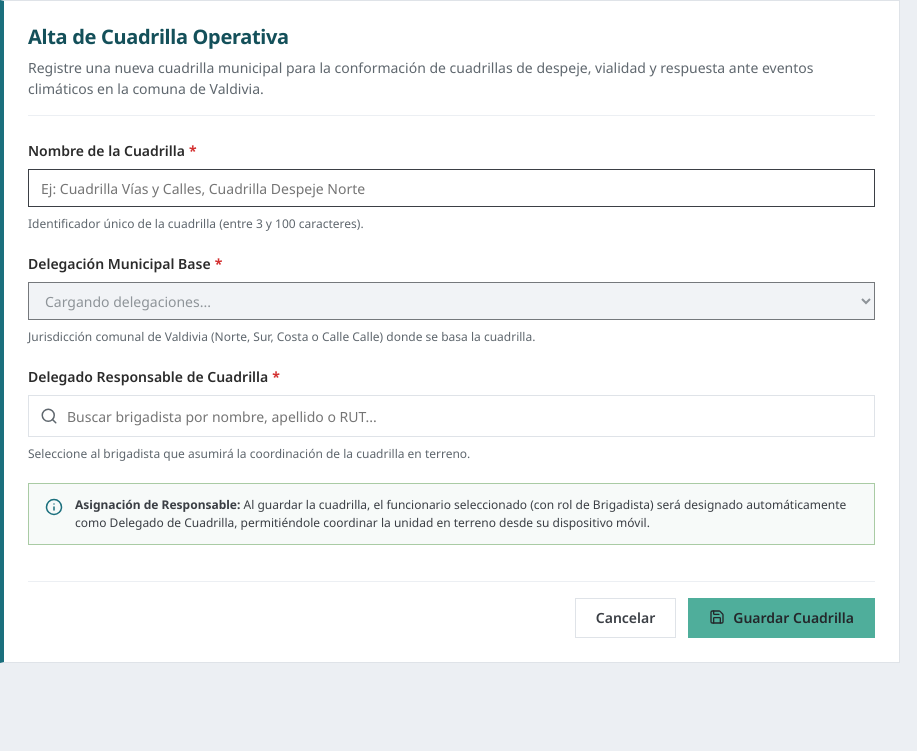
Scenario: CuadrillaForm (H79) › debe reflejar error de colisión de nombre (409 Conflict) directamente en el input
This screenshot has width=917, height=751.
// Llenar campos
Type "Cuadrilla Existente" into the field labelled "Nombre de la Cuadrilla *". click: [452, 188]
box: [28,169,875,207]
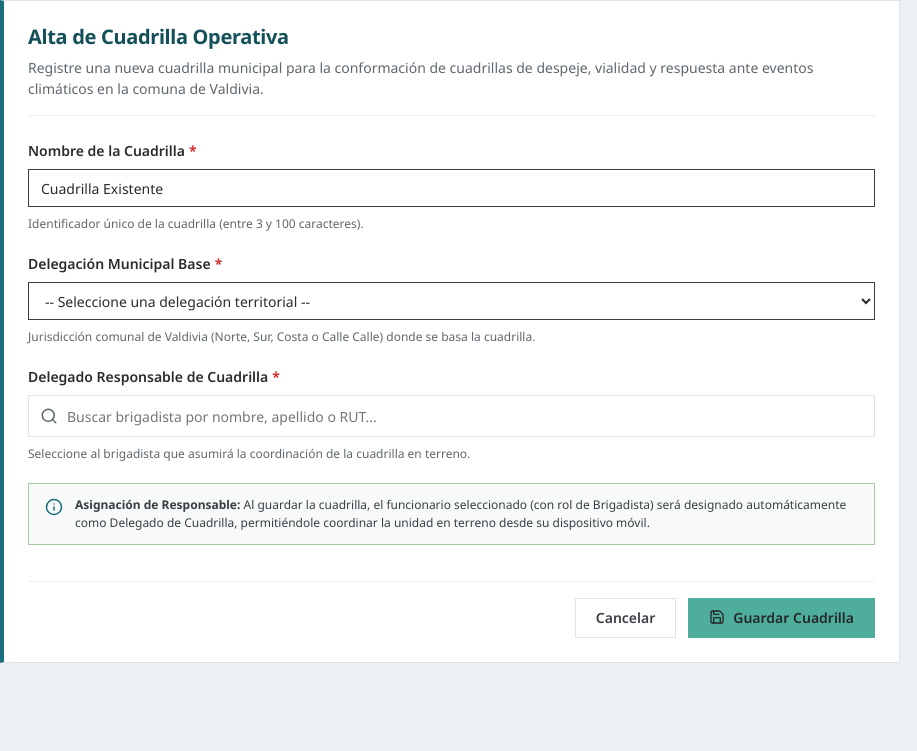
Select "Calle Calle" in the dropdown labelled "Delegación Municipal Base *". click: [452, 301]
box: [28,282,875,320]
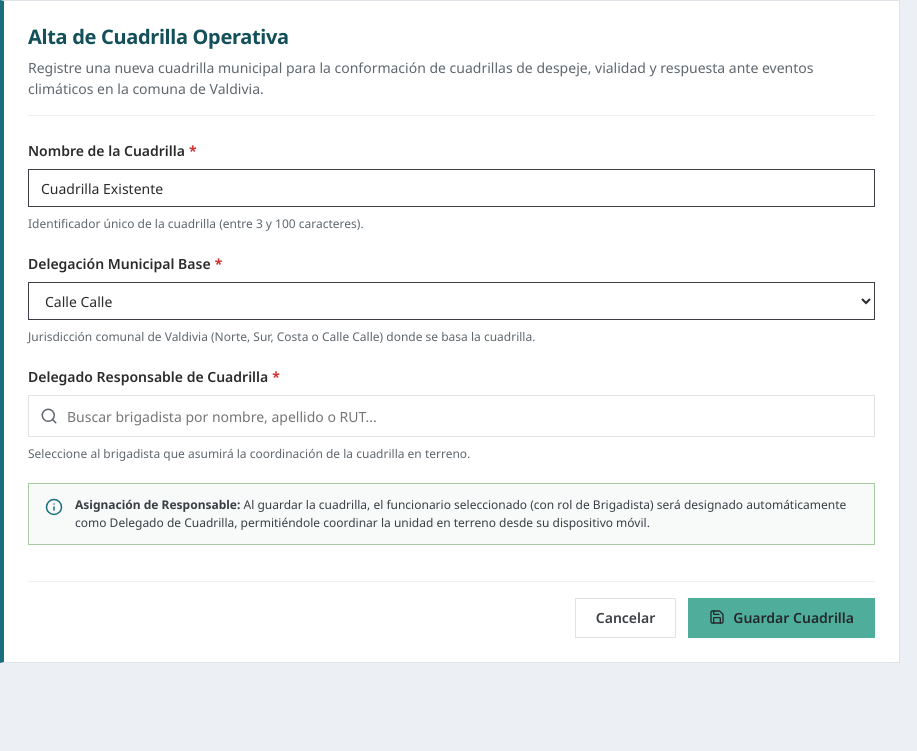
Type "Carlos" into the field with placeholder "Buscar brigadista por nombre, apellido o RUT...". click: [452, 416]
box: [28,395,875,437]
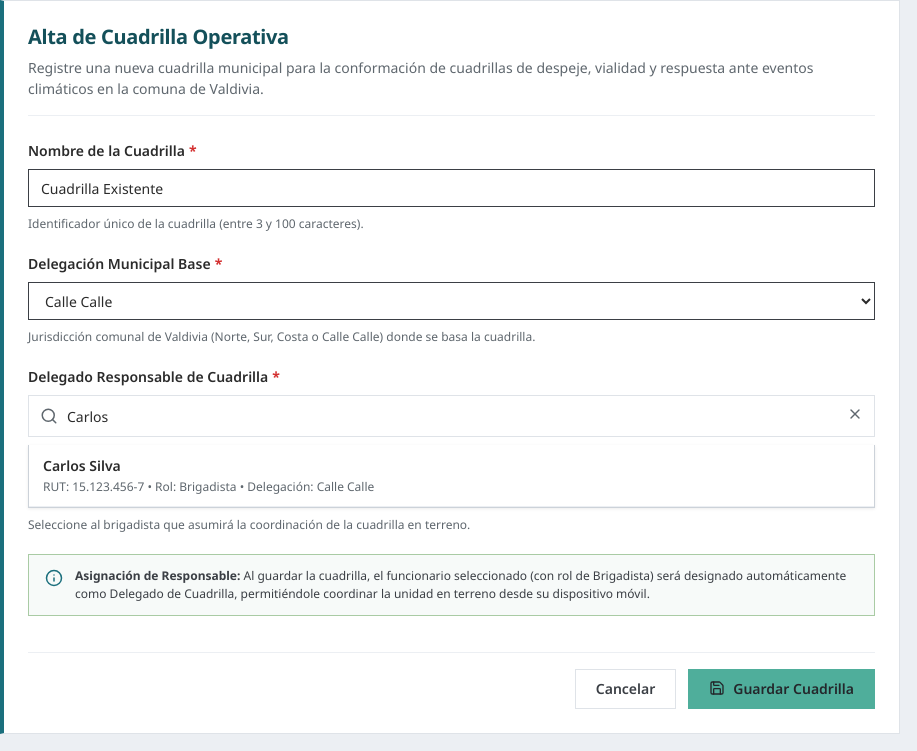
Click the text "Carlos Silva". click: [82, 466]
box: [43,456,121,475]
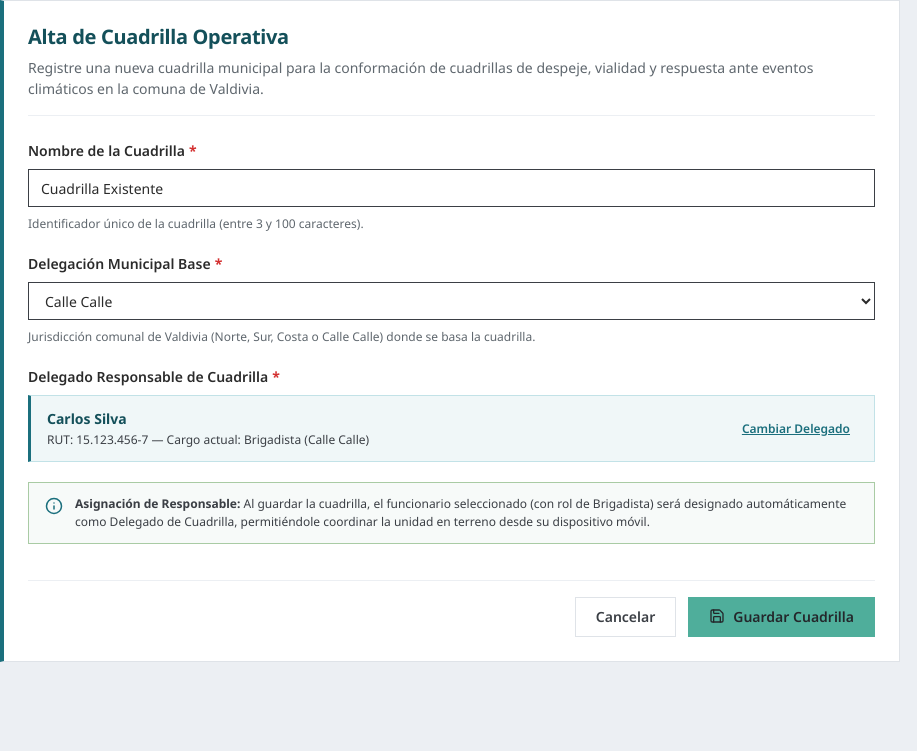
Click the button "Guardar Cuadrilla". click: [782, 617]
box: [688,597,875,637]
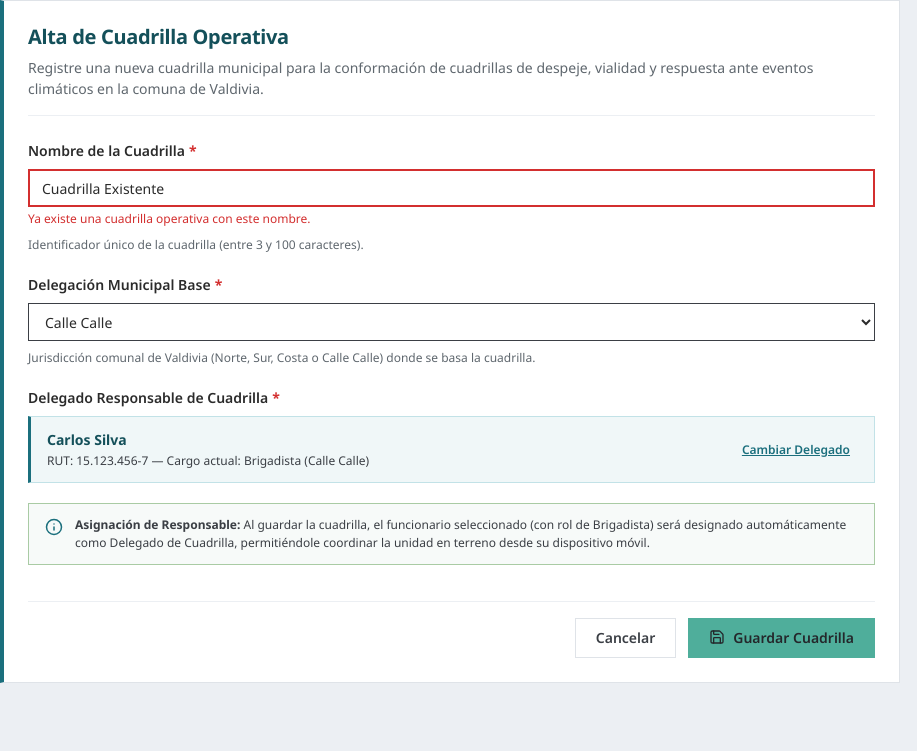
expect the text "Ya existe una cuadrilla operativa con este nombre." is shown: met, box [28,210,311,227]
